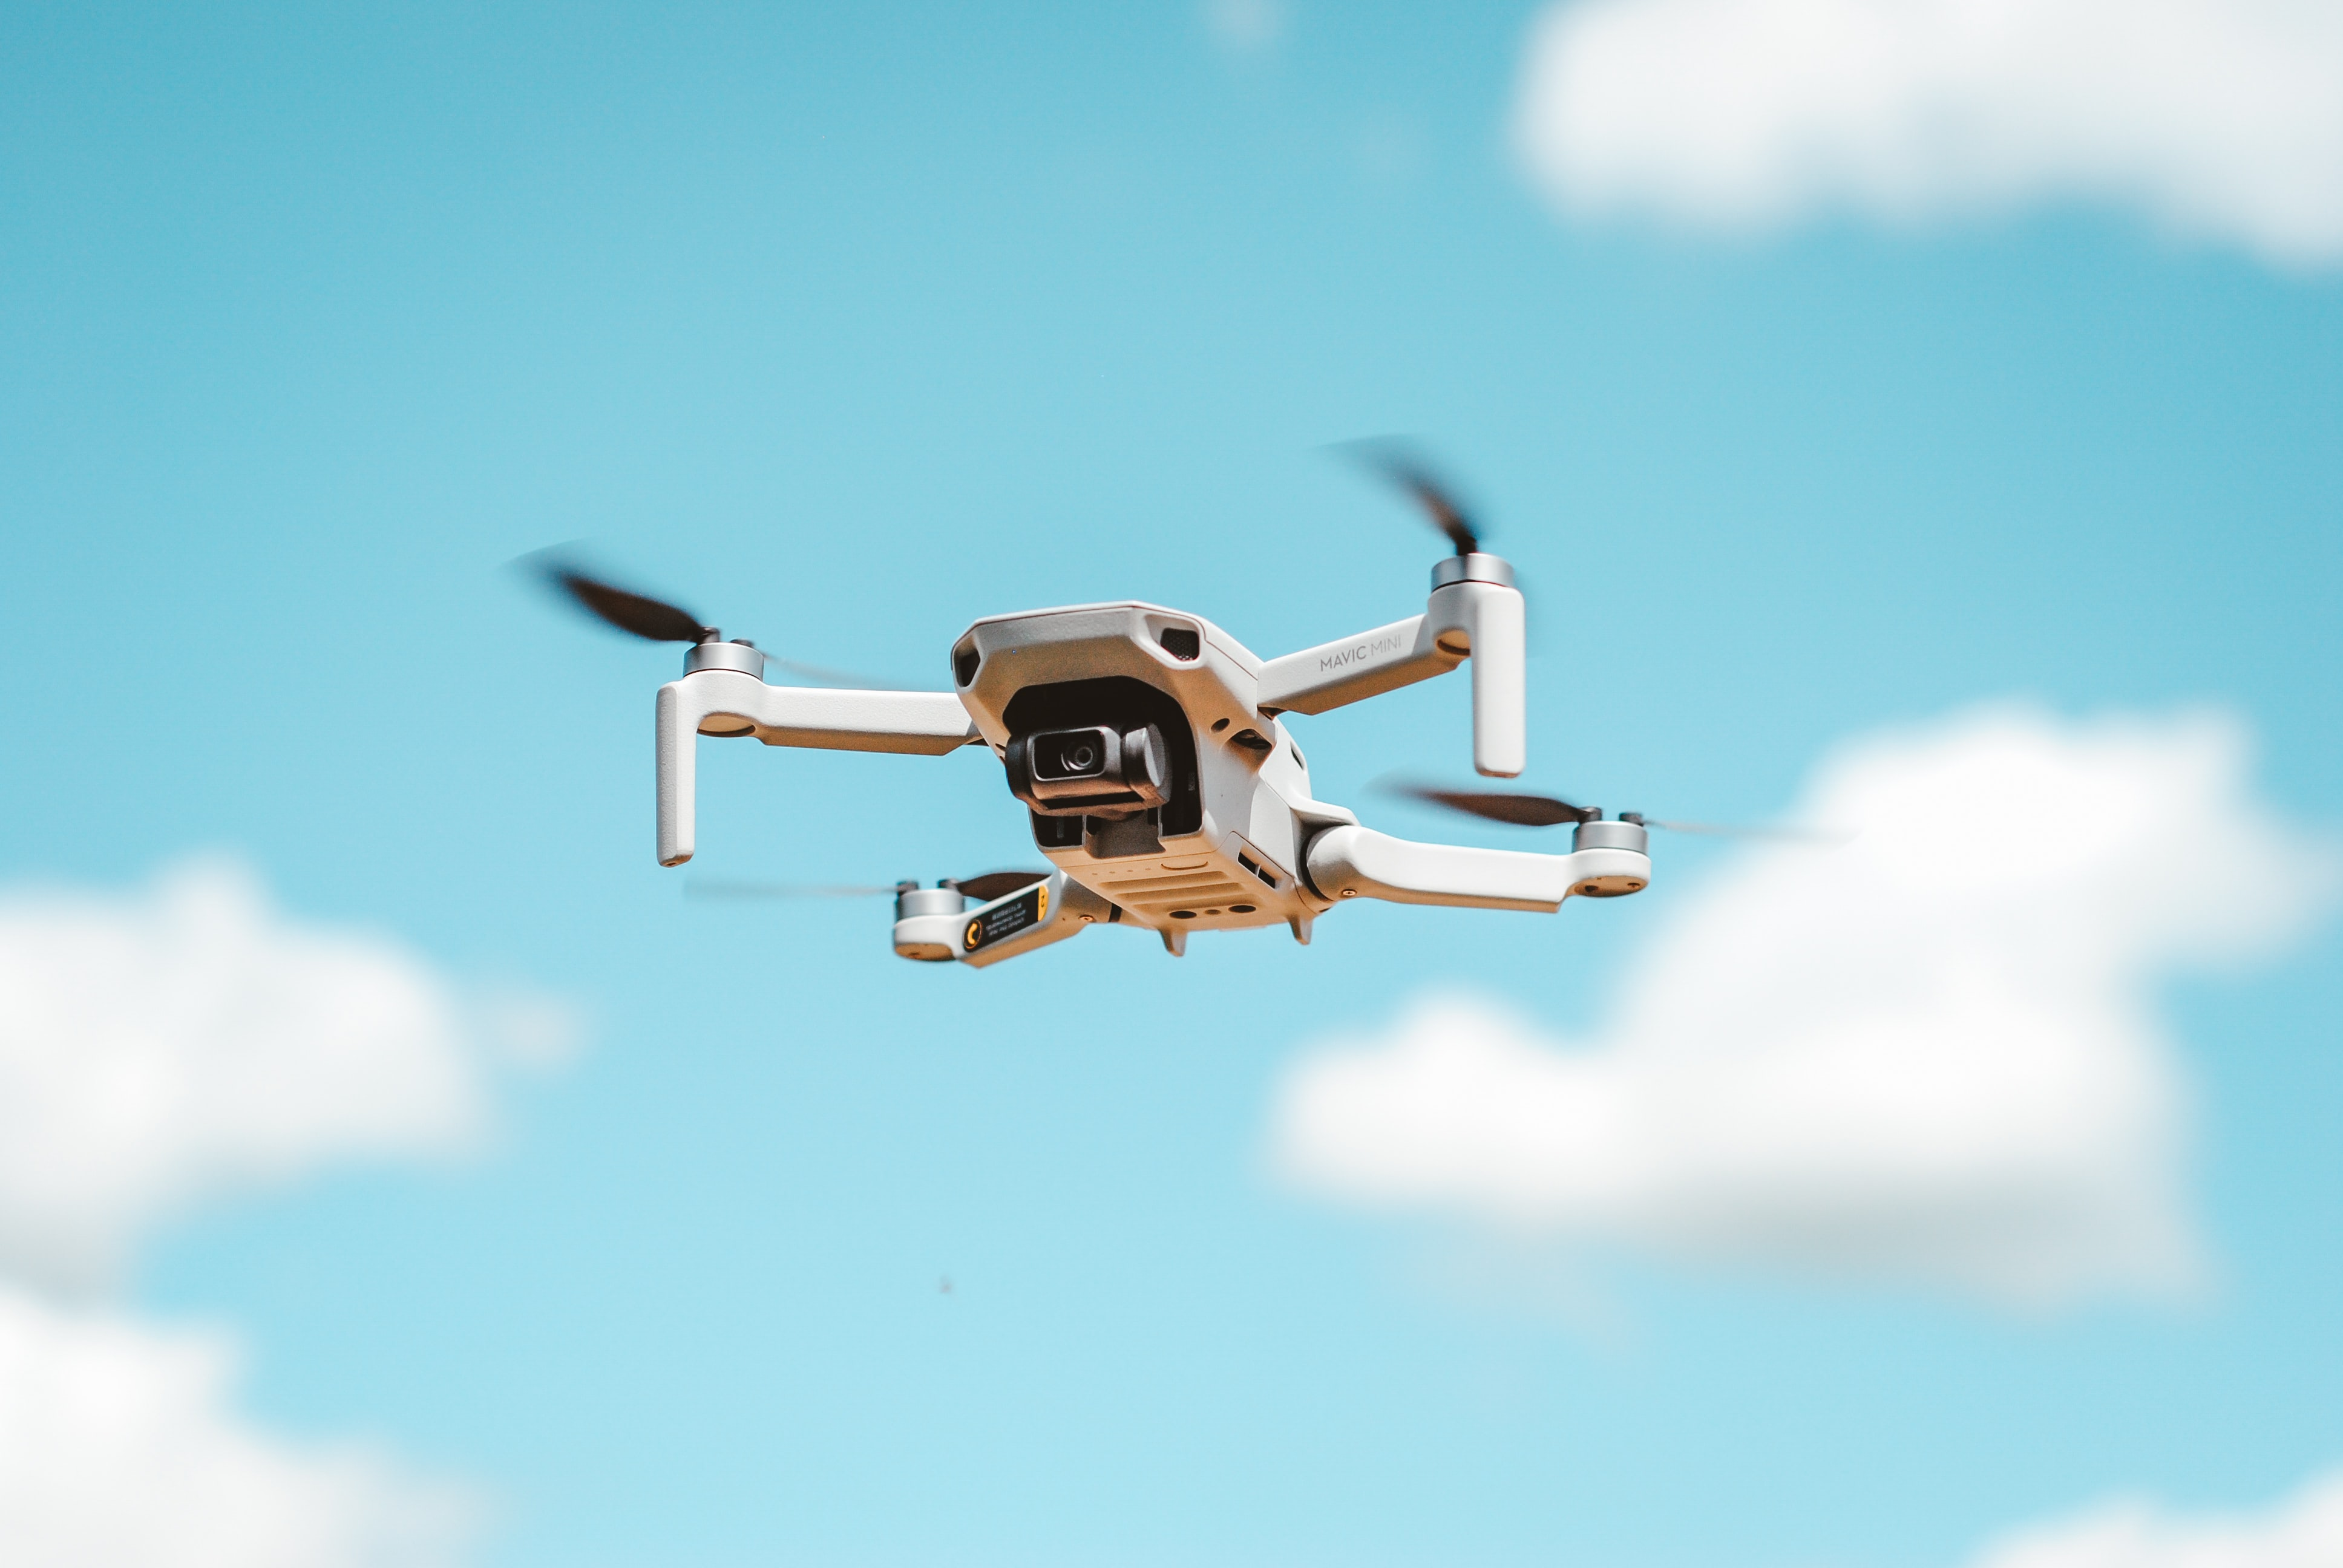drone: (439, 374, 1913, 1134)
